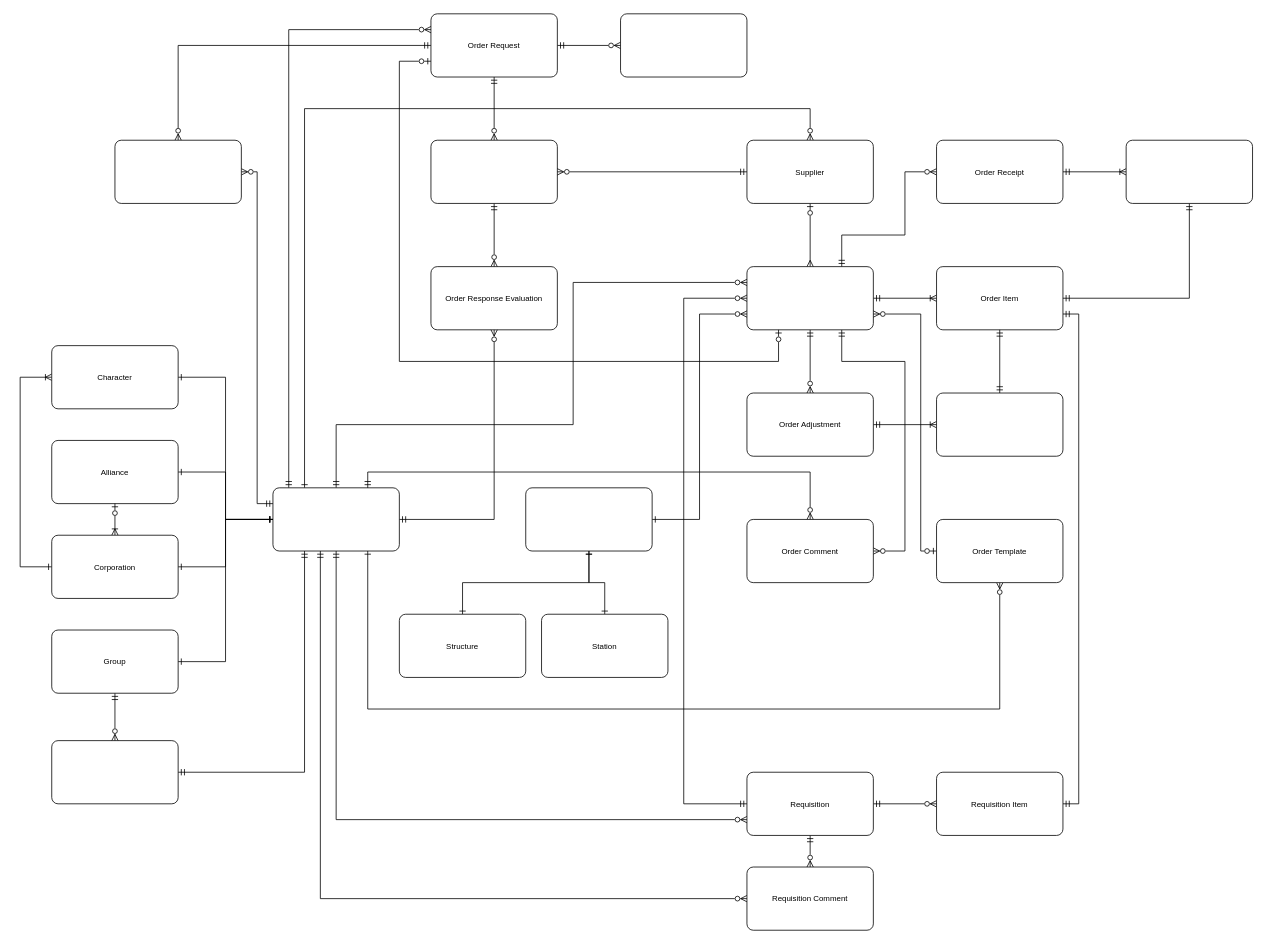
This 1266x944 diagram has some shape labels left out. The centre of each missing label's shape, as x and y in pixels:
"Address" goes at [588,519].
"Group Membership" goes at [114,772].
"Member" goes at [335,519].
"Order" goes at [809,298].
"Order Adjustment Item" goes at [999,424].
"Order Receipt Item" goes at [1189,171].
"Order Request Comment" goes at [177,171].
"Order Request Item" goes at [683,45].
"Order Response" goes at [493,171].
